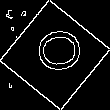O_W: (28, 31, 82, 79)
